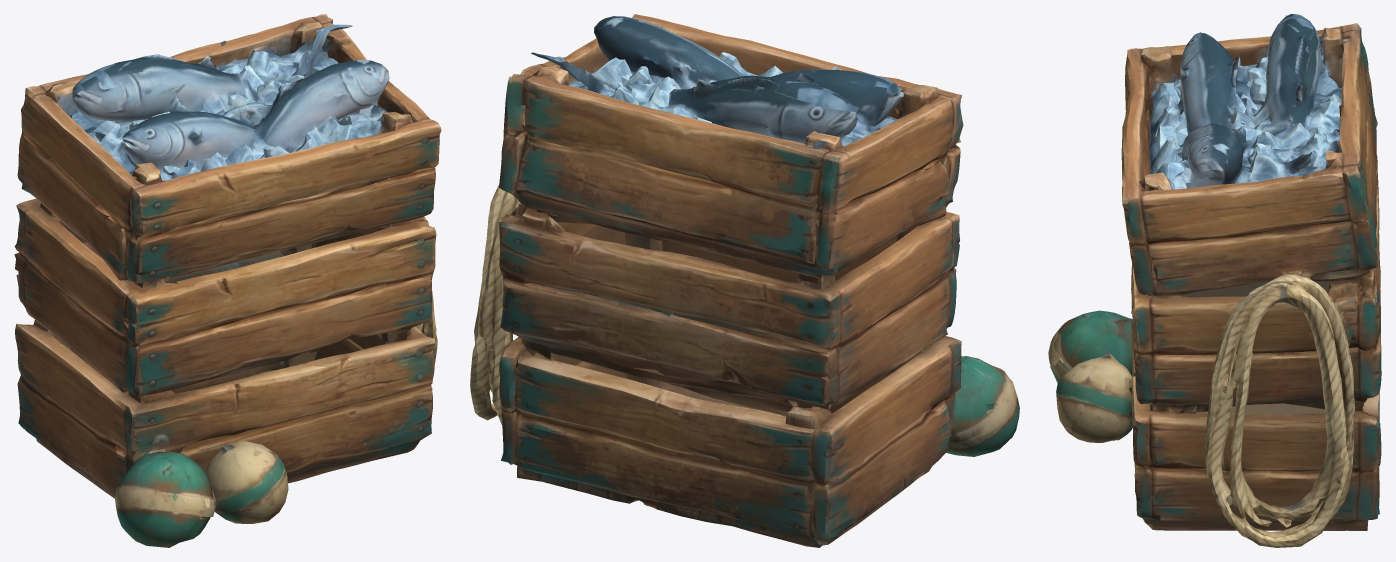
The model's file is tidewake_fish_crate_stack.glb.
The picture shows the model from 3 angles, left to right: view 1: azimuth 30°, elevation 25°; view 2: azimuth 150°, elevation 25°; view 3: azimuth 270°, elevation 25°; orthographic projection. The views are drawn at different scales.
Visible parts, largest first — view 1: Mesh_0; view 2: Mesh_0; view 3: Mesh_0.
Boxes of the visible parts, x1,y1,x2,y2 form: Mesh_0: (14, 14, 441, 547); Mesh_0: (470, 14, 1019, 547); Mesh_0: (1048, 14, 1381, 547).
Bounding box in the file's own units: 1.88 × 1.81 × 1.39.
1 material, 1 textured.
